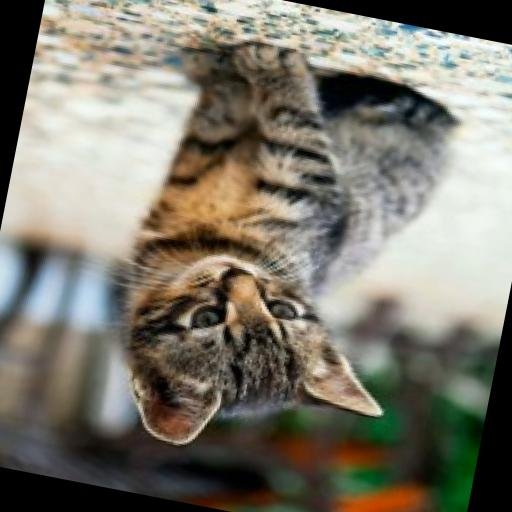cat: (68, 20, 473, 502)
